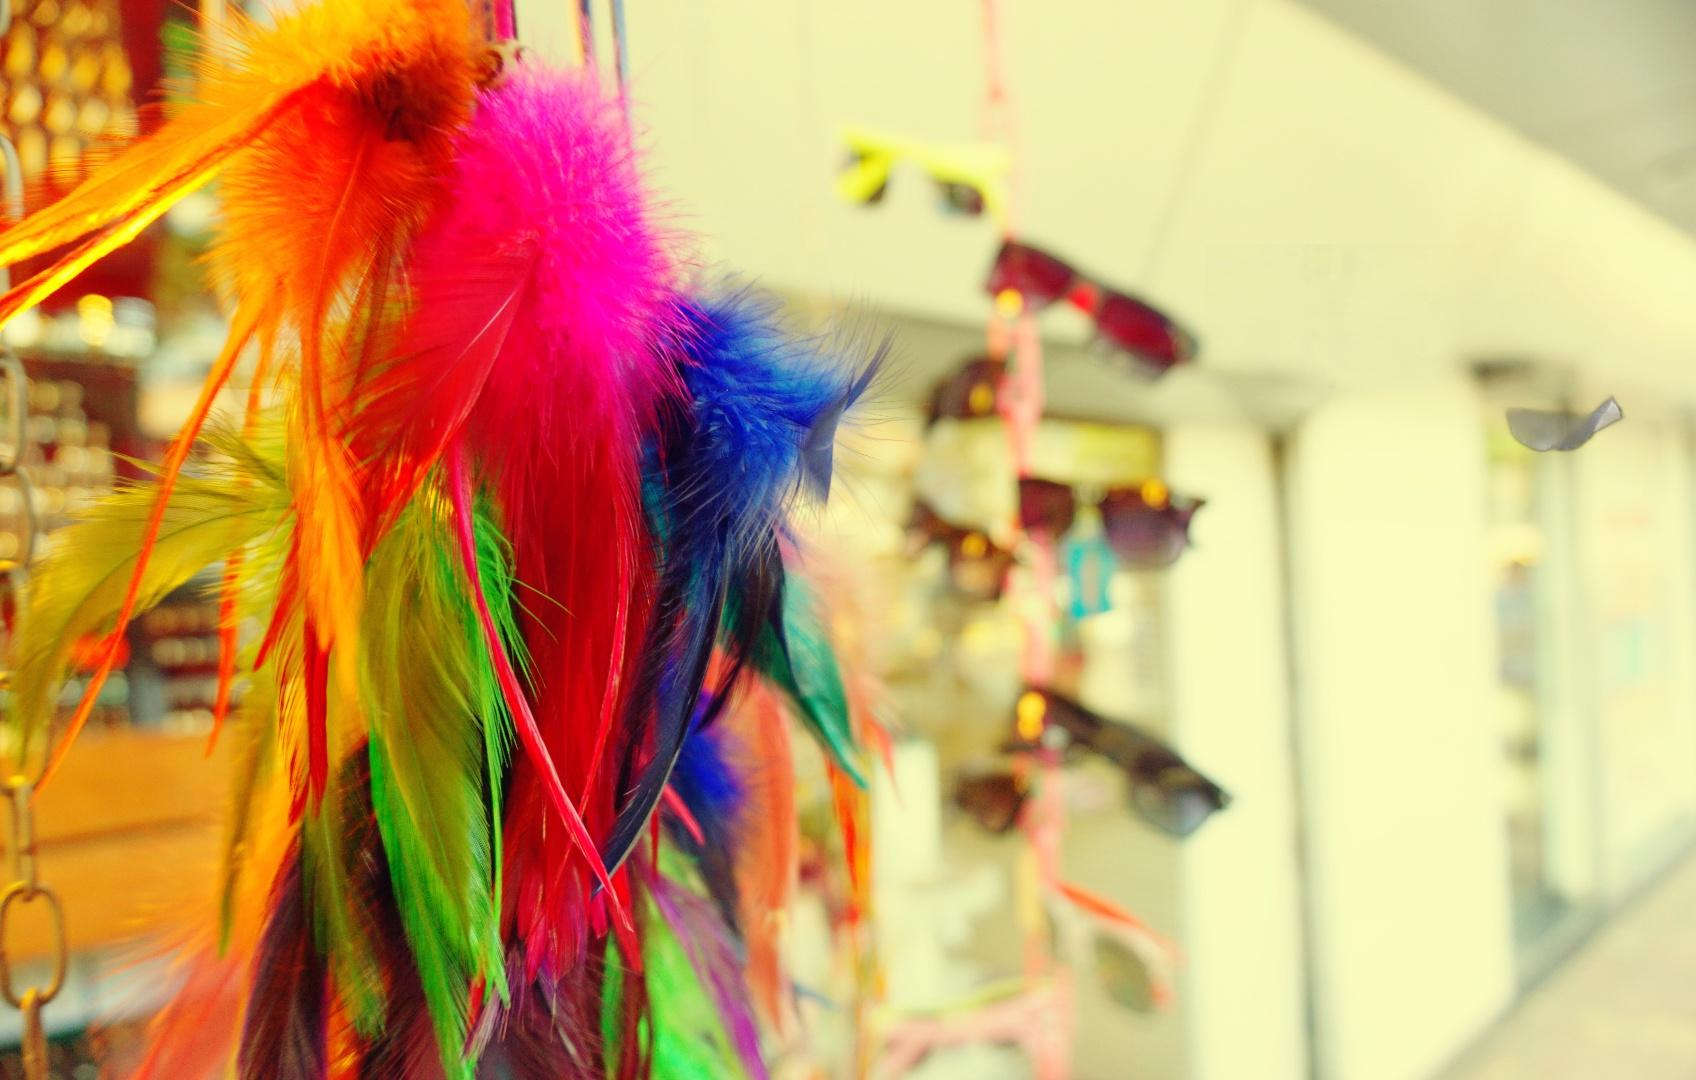paper: (1205, 243, 1696, 455)
